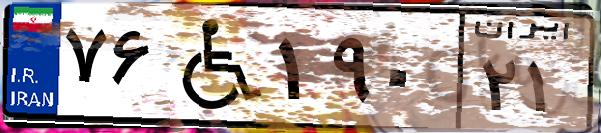0: (385, 28, 445, 110)
1: (270, 28, 330, 110), (525, 38, 570, 115)
2: (475, 38, 525, 113)
6: (110, 28, 158, 98)
7: (57, 26, 110, 100)
9: (330, 28, 385, 110)
ژ (معلولین و جانبازان): (158, 12, 270, 120)
